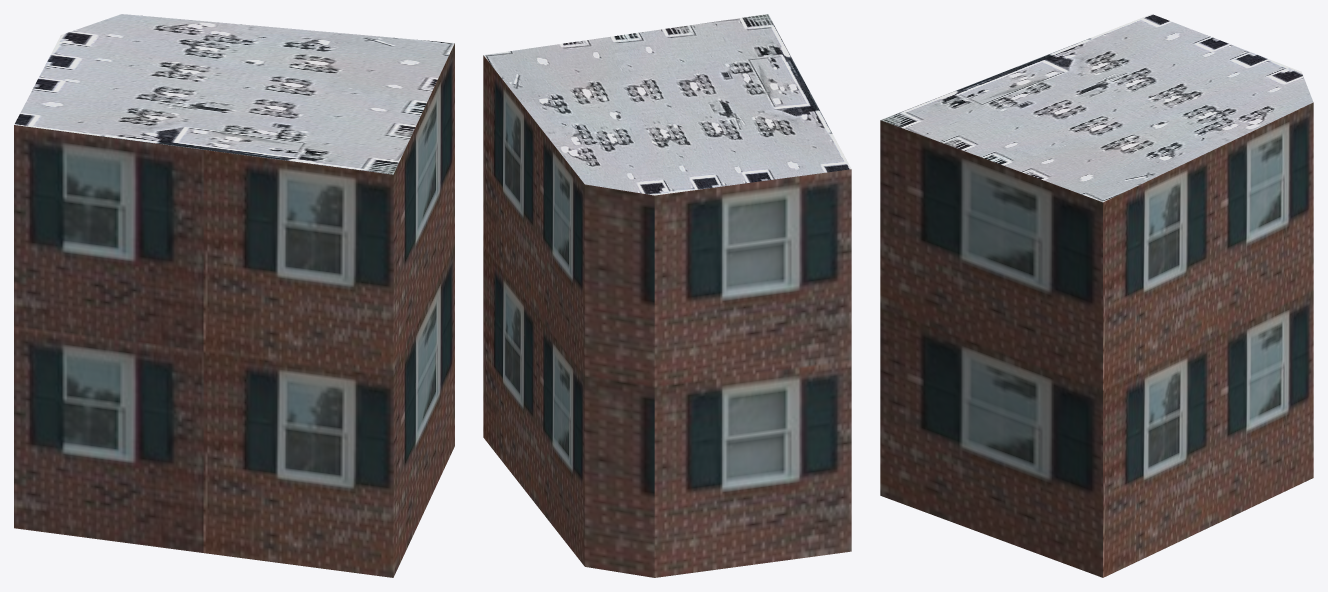
File: ResTex__4306.fbx
The picture shows the model from 3 angles, left to right: view 1: azimuth 30°, elevation 25°; view 2: azimuth 150°, elevation 25°; view 3: azimuth 270°, elevation 25°; orthographic projection. The views are drawn at different scales.
Visible parts, largest first — view 1: CityEngineMaterial_14_m, CityEngineMaterial_8_m; view 2: CityEngineMaterial_14_m, CityEngineMaterial_8_m; view 3: CityEngineMaterial_14_m, CityEngineMaterial_8_m.
Part boxes in pixels (x1,y1,x2,y2): CityEngineMaterial_14_m: (14, 43, 454, 577); CityEngineMaterial_8_m: (14, 14, 454, 174); CityEngineMaterial_14_m: (483, 55, 851, 577); CityEngineMaterial_8_m: (483, 14, 851, 195); CityEngineMaterial_14_m: (880, 102, 1313, 577); CityEngineMaterial_8_m: (880, 14, 1313, 202).
Bounding box in the file's own units: 6.45 × 6 × 6.27.
Materials: 2 (2 with a texture image).
